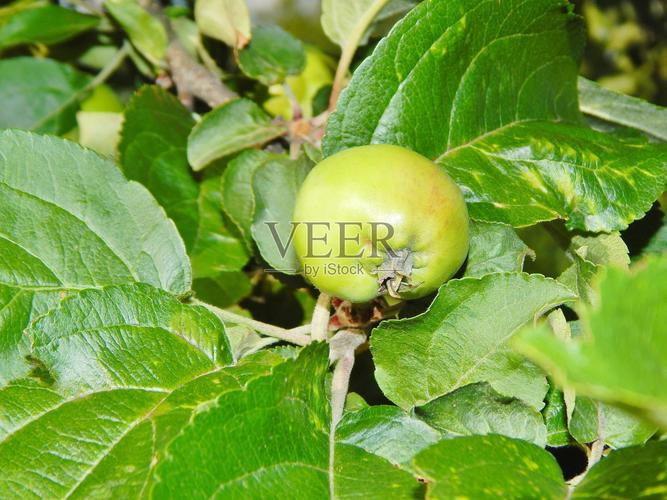unripe: (290, 124, 474, 321)
